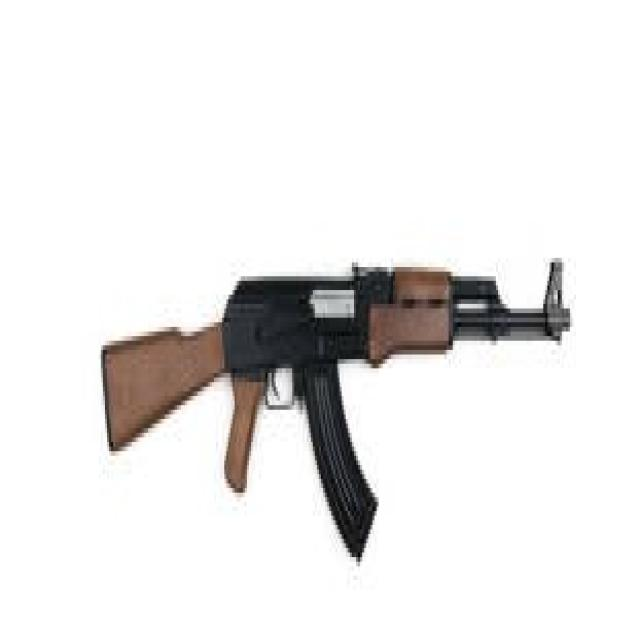rifle: (99, 251, 574, 569)
